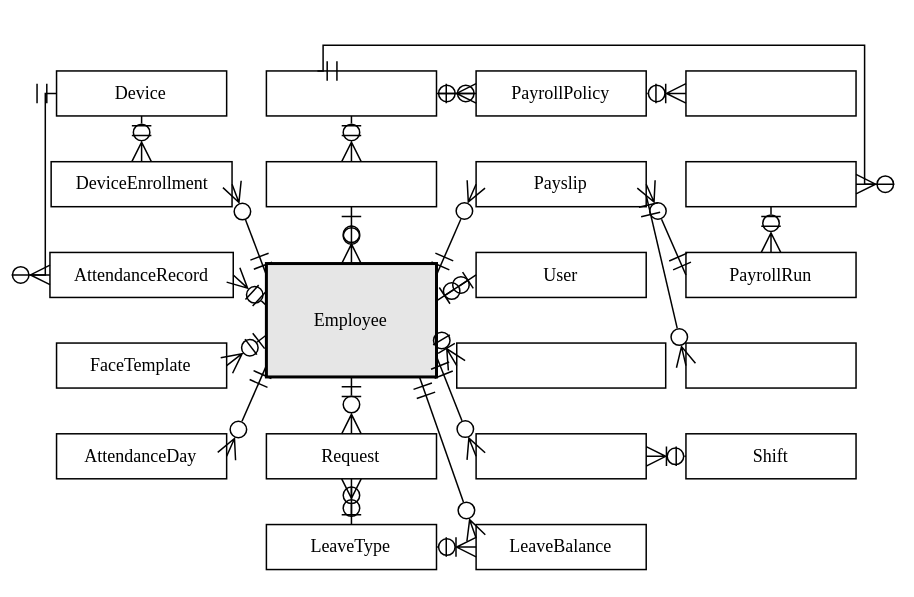
The diagram is 914 pixels wide and 597 high, and some of its shapes have lost their labels. The centre of each missing label's shape, as x and y in pixels:
CompensationRecord: the point at 560,365
Department: the point at 350,183
LegalEntity: the point at 350,92
PayrollPeriod: the point at 770,183
PayslipLine: the point at 770,365
ShiftAssignment: the point at 560,455
TaxBracket: the point at 770,92
